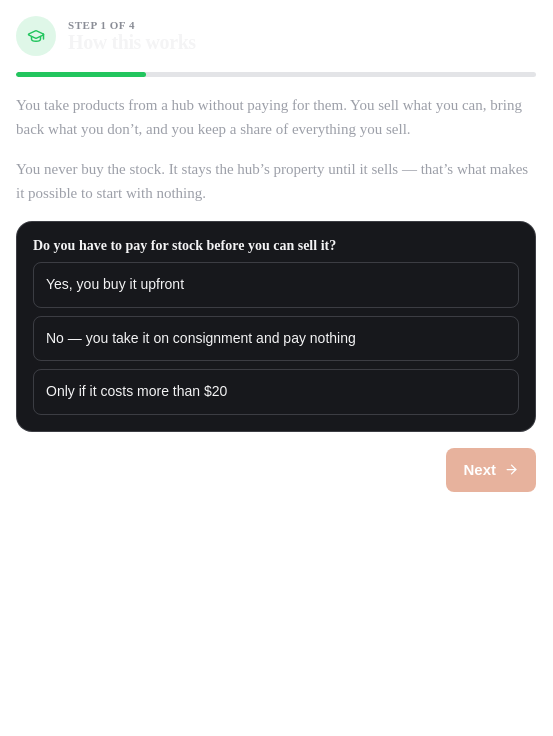
Test: B-5 training (demo mode) › walks module by module and never ships its own answer key
Expected: the heading "How this works" is shown, [68, 30, 196, 54]
Expected: the text "Step 1 of 4" is shown, [68, 18, 135, 30]
Click the radio button labelled "No — you take it on consignment and pay nothing": (276, 338) [33, 316, 519, 361]
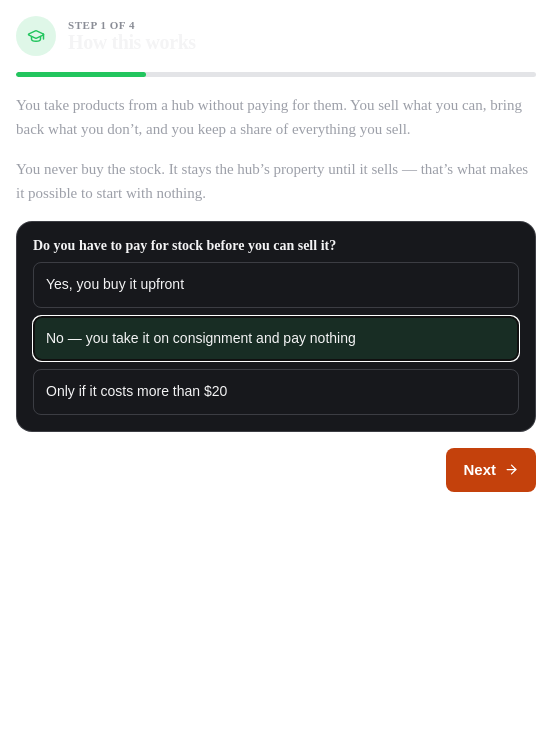
Result: the button "Next" is enabled
Click the button "Next": (491, 470) [446, 448, 536, 492]
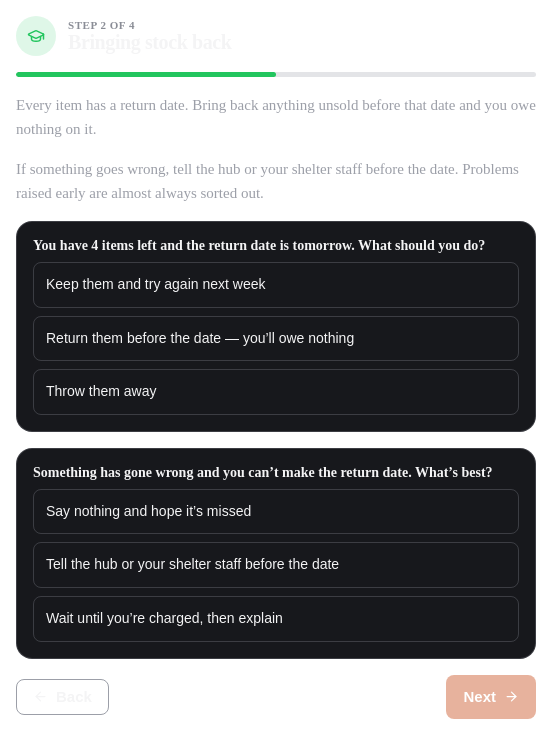
Expected: the heading "Bringing stock back" is shown, [68, 30, 232, 54]
Result: the text "Step 2 of 4" is shown at [68, 18, 135, 30]
